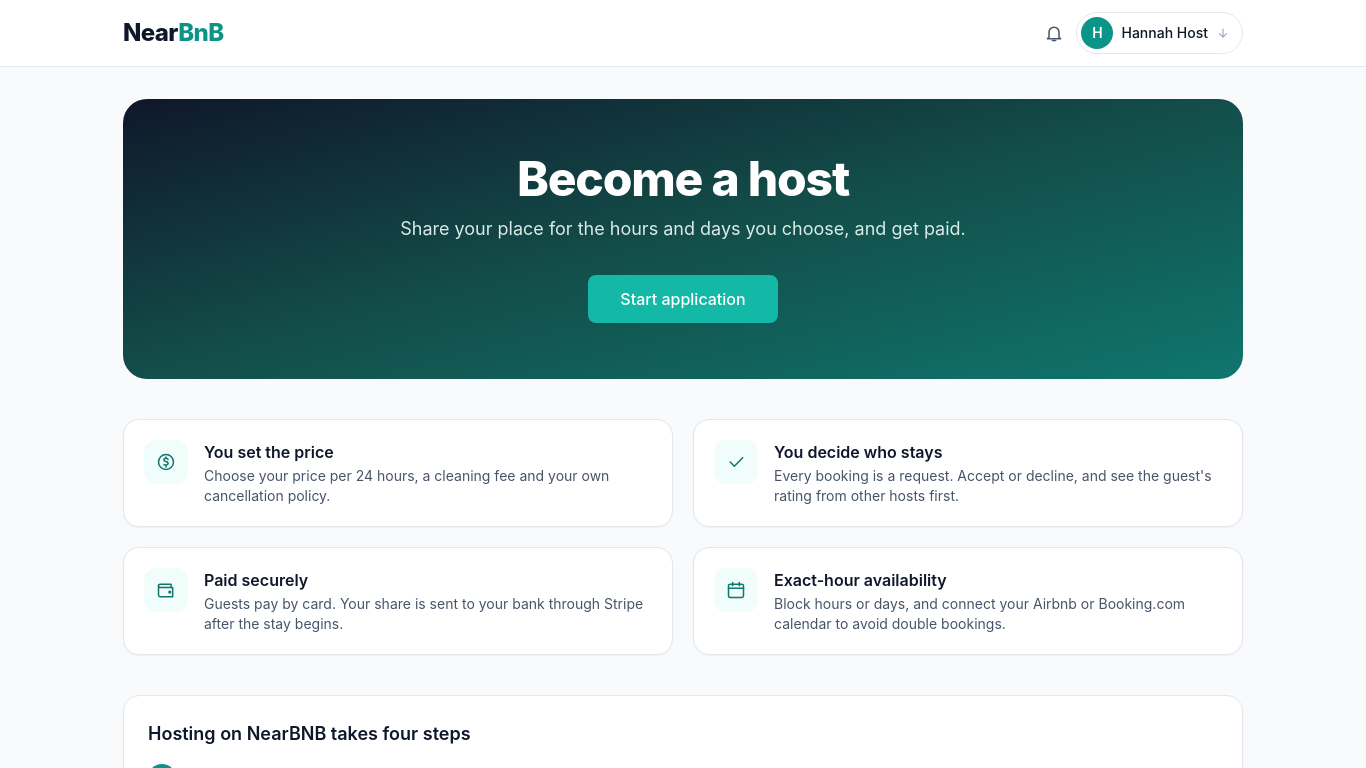
host area shell › shows a guest who has never hosted the public Become a host page, with no host sidebar
expect the heading "Become a host" is shown: met, box [517, 149, 849, 208]
expect the button "Start application" is shown: met, box [588, 275, 778, 323]
Click the button with aria-label "Account menu" at {"x": 1160, "y": 33}, box [1076, 12, 1243, 54]
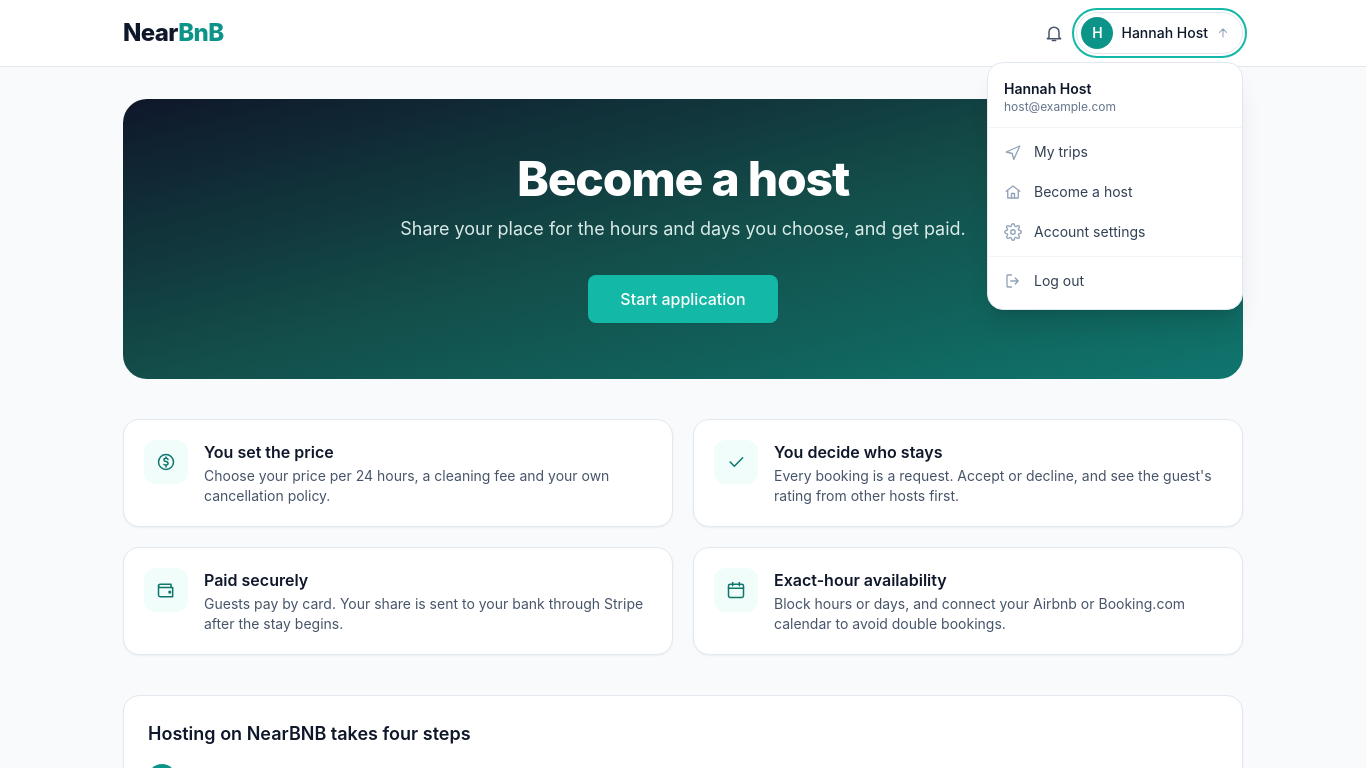
expect the menu item "Become a host" is shown: met, box [1004, 183, 1132, 201]
